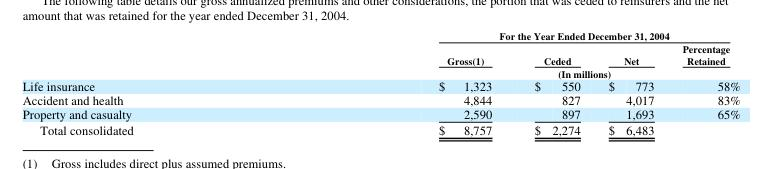table: (21, 28, 739, 137)
table column: (21, 28, 285, 137), (285, 28, 512, 137), (512, 28, 593, 137), (593, 28, 667, 137), (667, 28, 739, 137)
table column header: (21, 28, 739, 78)
table row: (21, 42, 739, 66), (21, 121, 739, 137), (21, 106, 739, 121), (21, 28, 739, 42), (21, 78, 739, 92), (21, 92, 739, 106), (21, 66, 739, 78)
table spanning cell: (285, 28, 739, 42), (285, 66, 739, 78)
